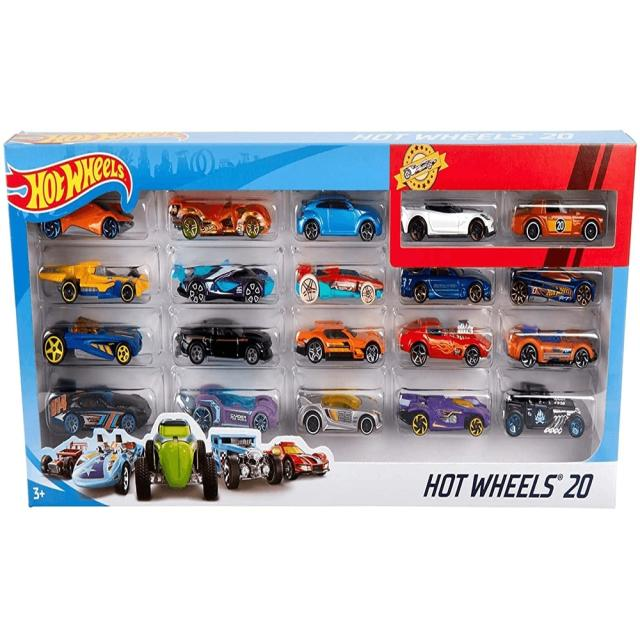Car: (41, 316, 142, 366), (38, 260, 150, 304), (397, 316, 493, 367), (173, 319, 275, 365), (167, 195, 271, 240), (396, 389, 492, 437), (504, 323, 600, 369), (510, 198, 607, 241), (294, 320, 386, 364), (296, 195, 383, 241), (176, 264, 275, 304), (400, 202, 496, 242), (37, 200, 134, 239), (294, 263, 384, 304), (400, 266, 492, 304), (509, 267, 596, 306)
